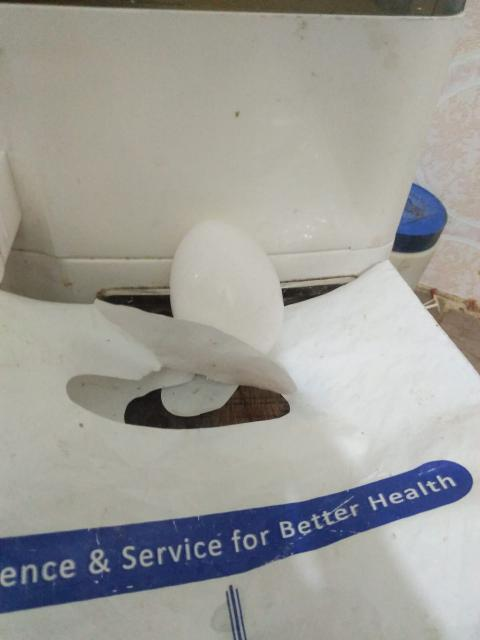Sano: (169, 220, 283, 355)
